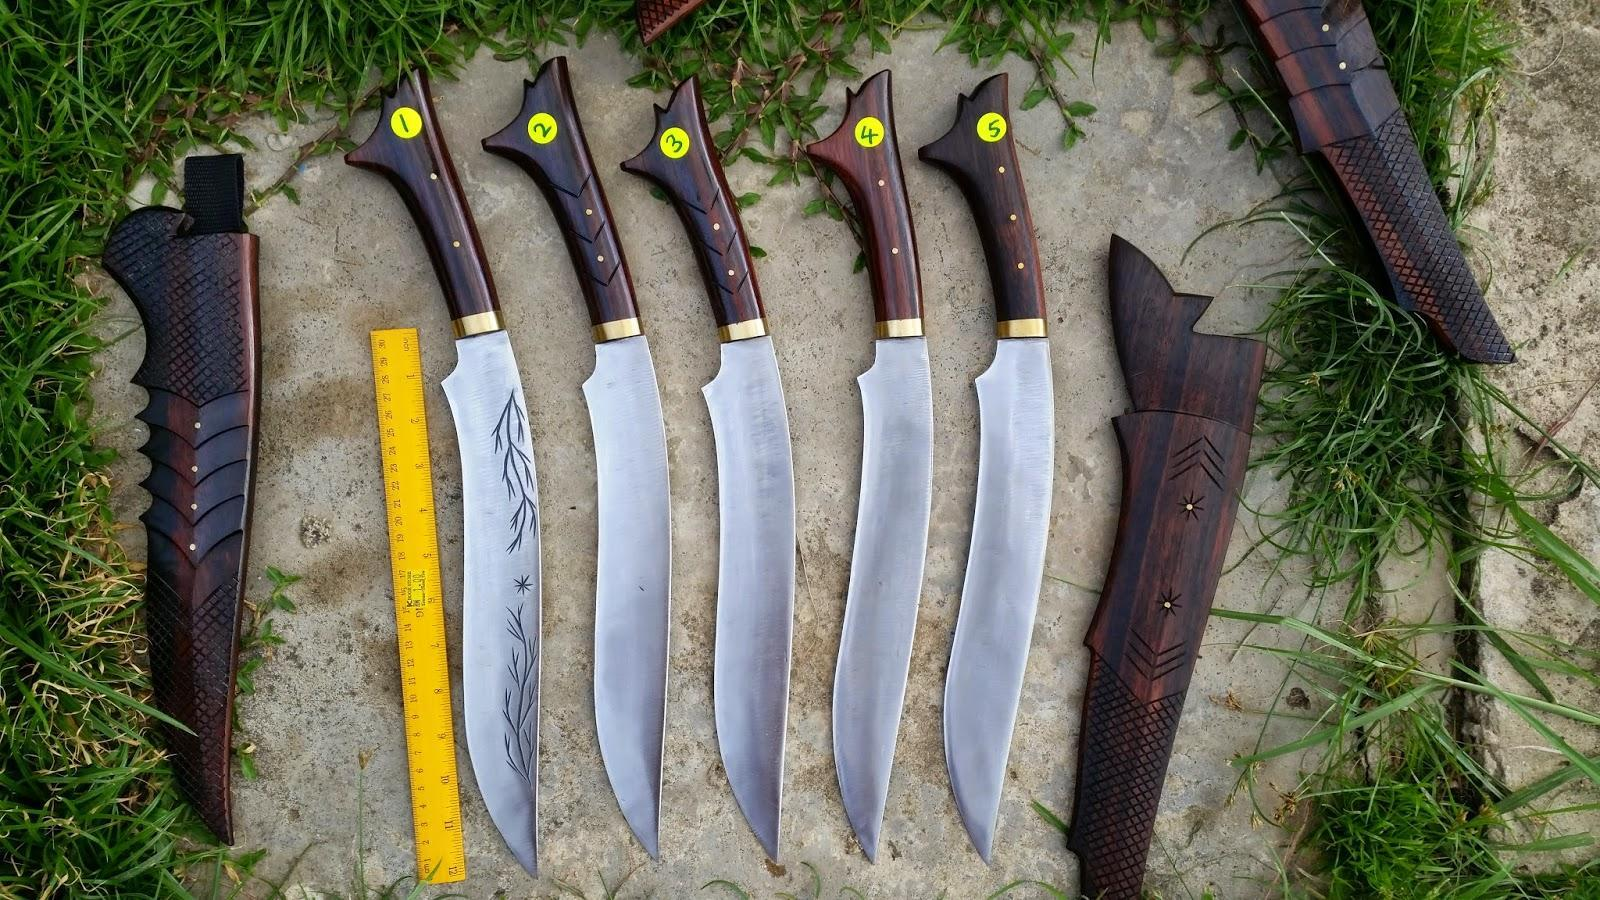facao: (468, 55, 678, 856), (343, 63, 546, 868), (619, 75, 805, 865), (907, 80, 1057, 860), (800, 73, 938, 866)
